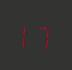one: (19, 18, 34, 49)
seven: (35, 20, 50, 51)
